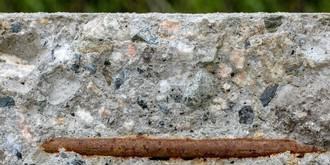Exposed reinforcement: (41, 136, 321, 159)
Spalling: (1, 12, 330, 165)
